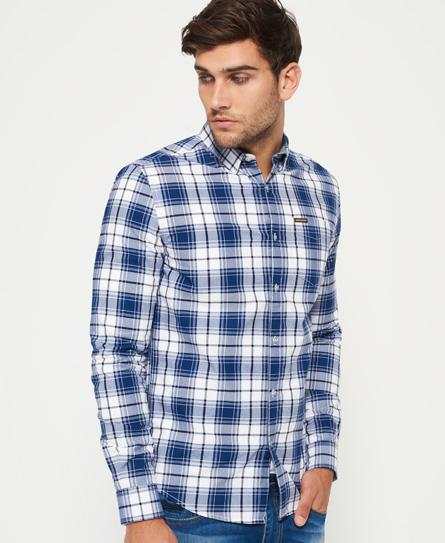teeshirt: (81, 119, 371, 528)
